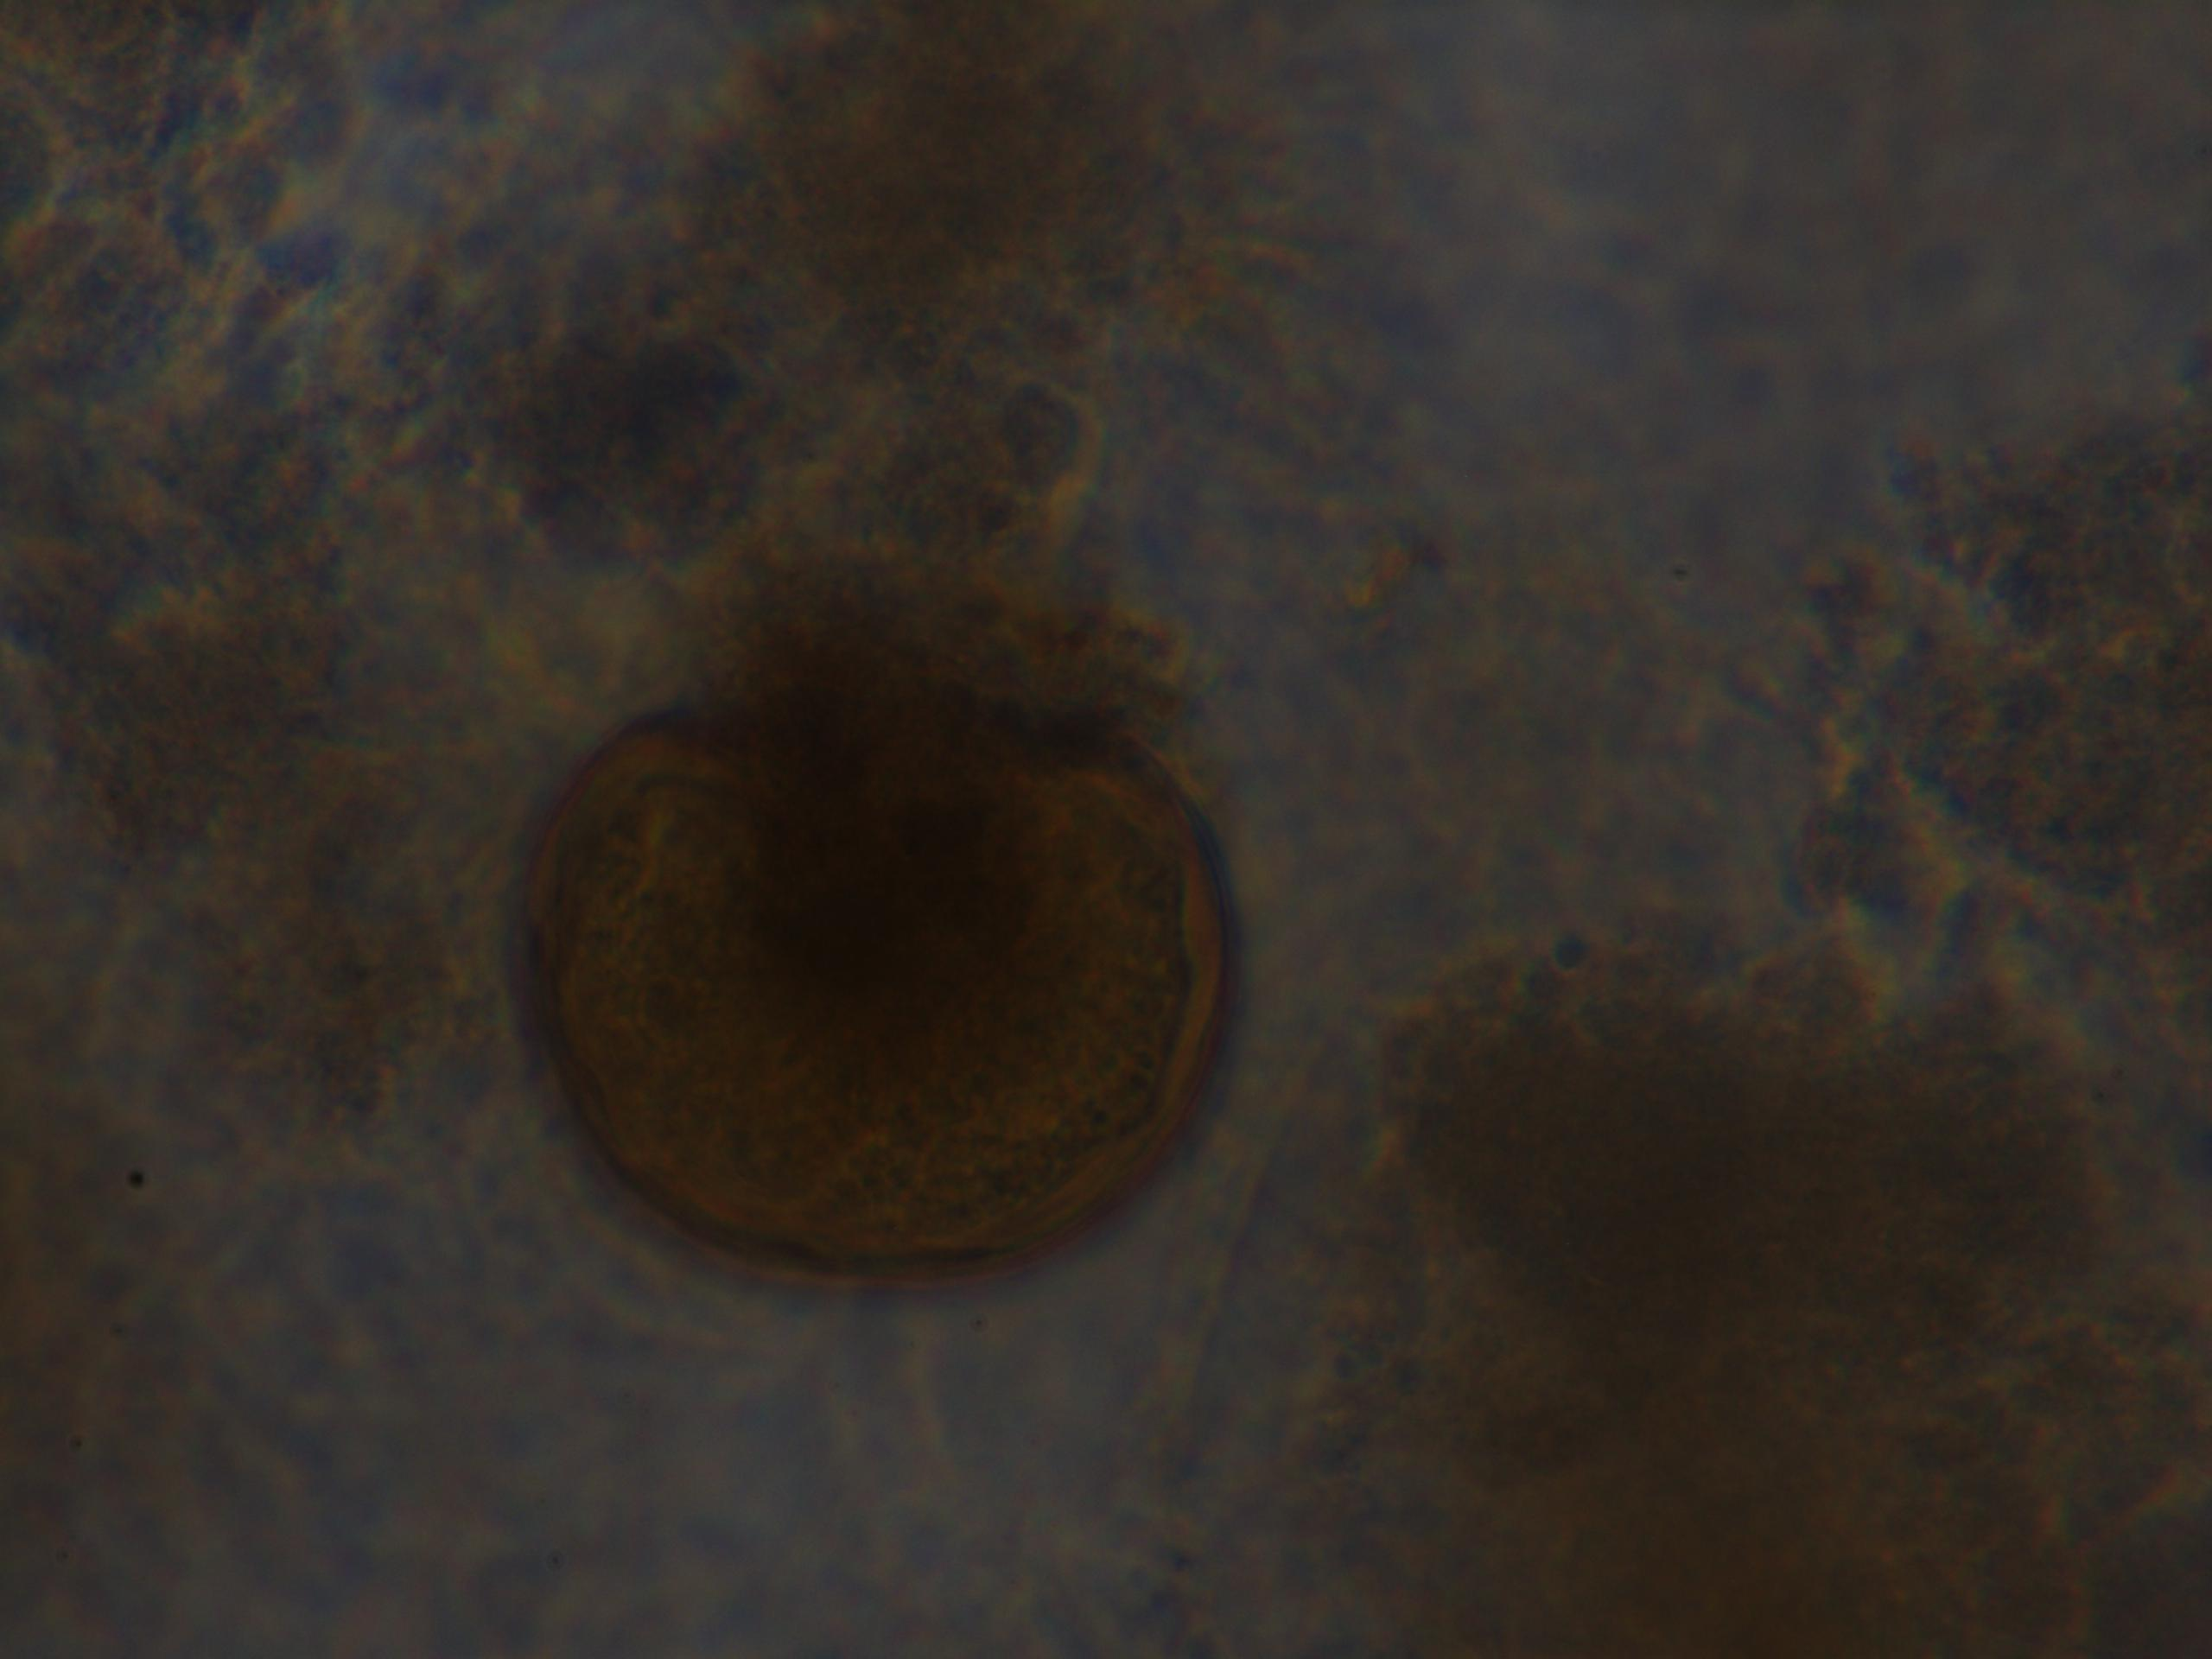protozoa: (491, 648, 1259, 1305)
